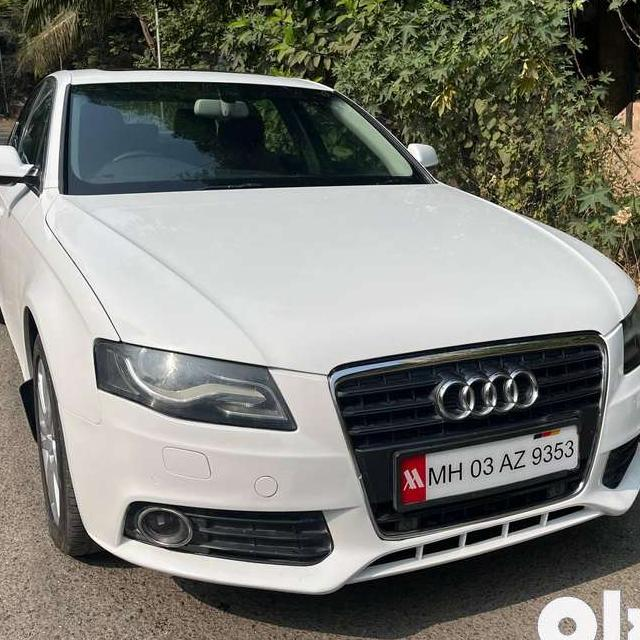Indian_Number_Plate: (398, 419, 579, 511)
